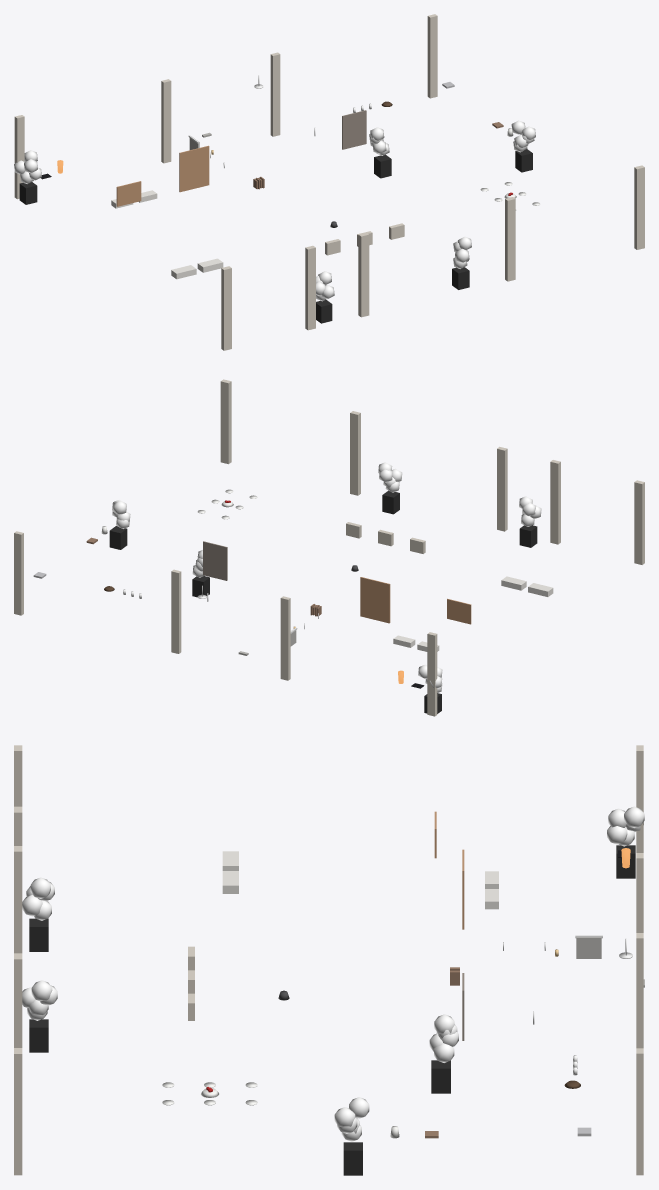
Rendered from interior_detail_A.glb.
3 views of the same model, one above another, from view 1: azimuth 30°, elevation 25°; view 2: azimuth 150°, elevation 25°; view 3: azimuth 270°, elevation 25° (orthographic). The views are drawn at different scales.
Visible parts, largest first — view 1: InteriorProps_A; view 2: InteriorProps_A; view 3: InteriorProps_A.
Boxes of the visible parts, x1,y1,x2,y2 form: InteriorProps_A: (14, 14, 644, 350); InteriorProps_A: (14, 379, 644, 716); InteriorProps_A: (14, 745, 644, 1175).
Size of the model in its own units: 15.92 by 2.95 by 13.65.
